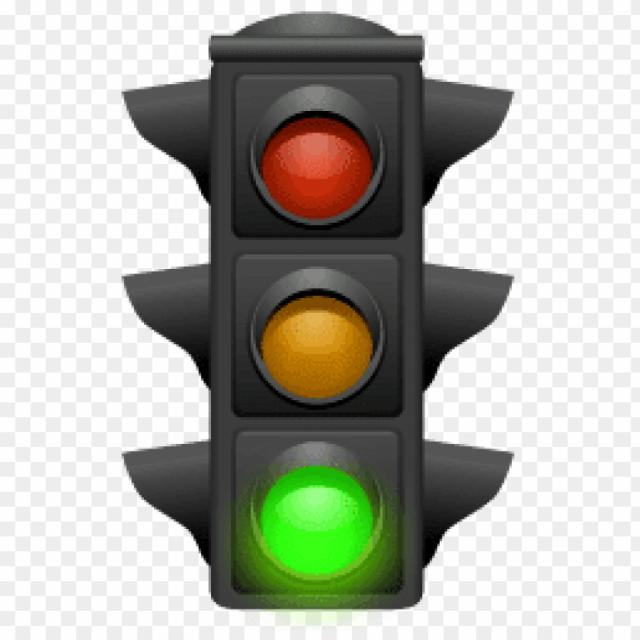green: (227, 414, 418, 630)
